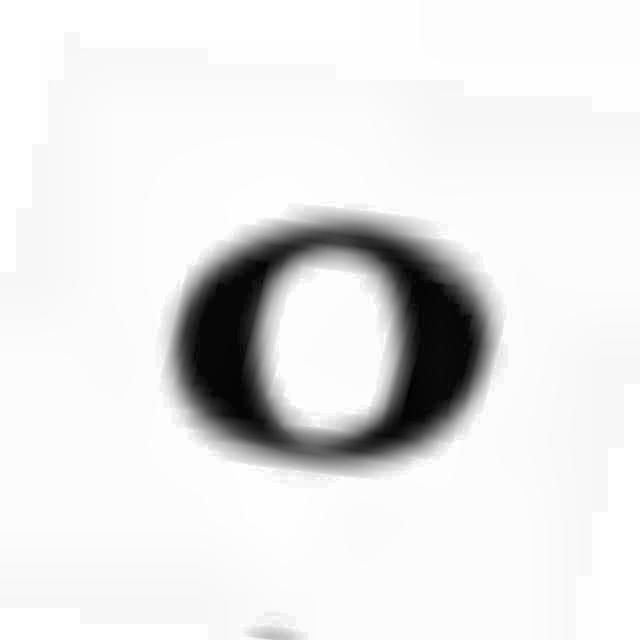Full-note: (138, 205, 526, 483)
